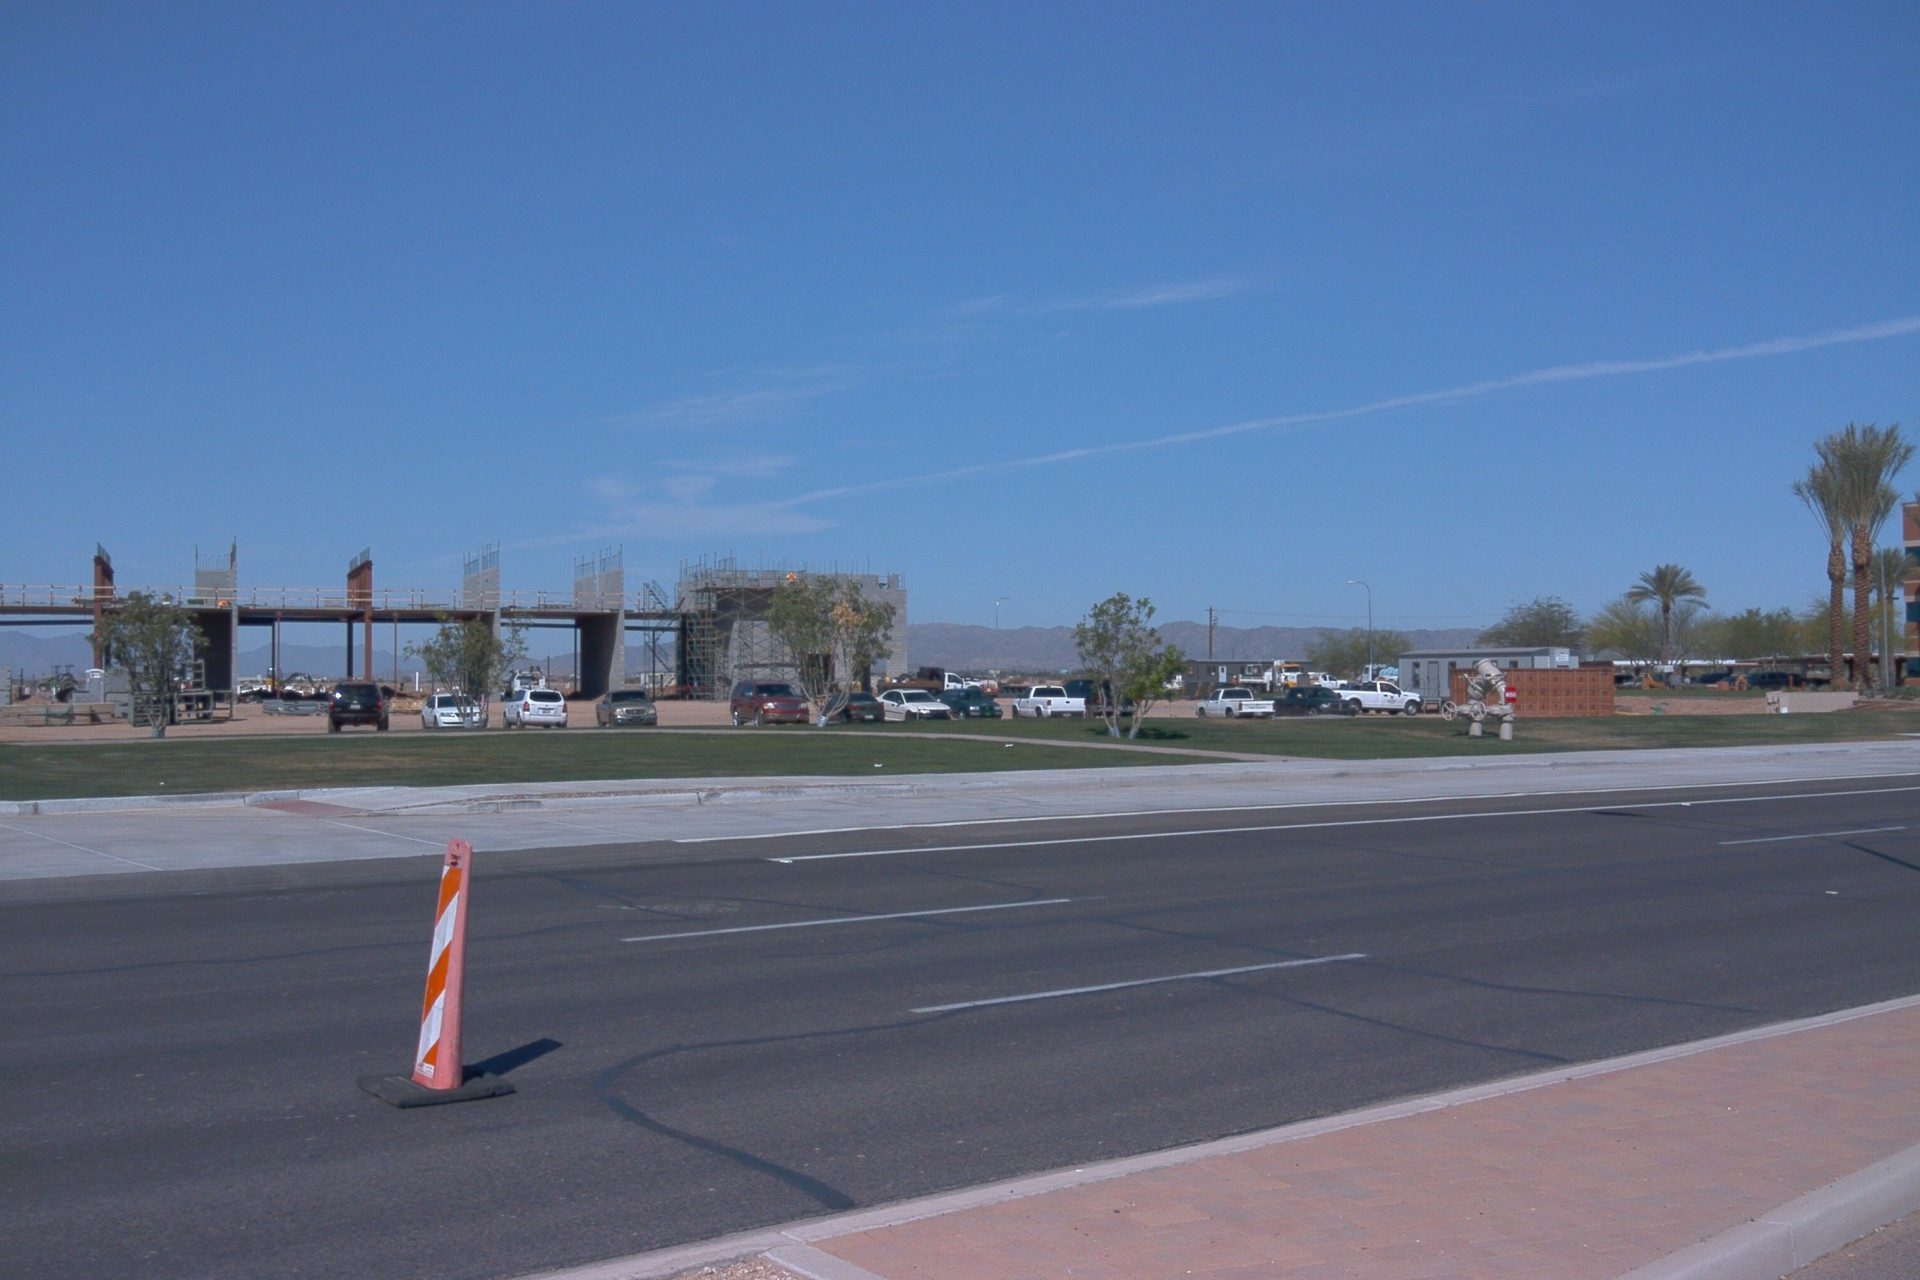TYPE_PEDESTRIAN: (1684, 672, 1695, 686), (1231, 675, 1239, 686)
TYPE_VEHICLE: (732, 678, 814, 729), (325, 679, 393, 736), (1326, 679, 1425, 718), (872, 668, 977, 701), (1061, 677, 1136, 720), (873, 684, 951, 725), (1239, 660, 1316, 701), (497, 688, 565, 734), (1256, 682, 1350, 715), (590, 684, 657, 730), (1011, 682, 1089, 721), (822, 686, 890, 729), (1199, 686, 1279, 722), (419, 691, 485, 734), (939, 686, 1005, 722), (499, 665, 549, 705), (266, 666, 323, 699), (1745, 671, 1795, 693), (1355, 666, 1401, 688), (1694, 674, 1737, 690), (1611, 675, 1644, 690), (981, 683, 1005, 702), (964, 680, 980, 684)
